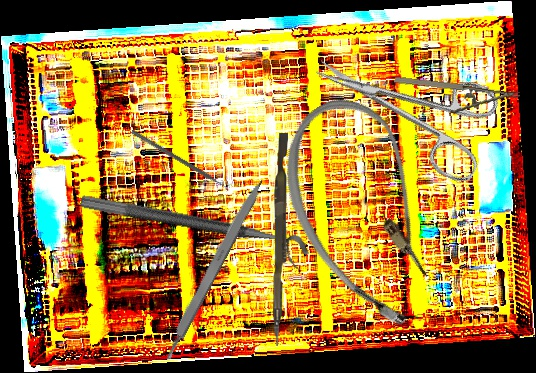Cannula: (253, 80, 480, 344)
Fixation Ring: (75, 192, 313, 273)
Iris Scissors: (299, 19, 509, 187)
Needle Holder: (390, 72, 521, 124)
Pusher: (273, 133, 288, 346)
Scalpel Handle: (158, 176, 267, 362)
Spatula Surgical: (128, 129, 231, 194)
